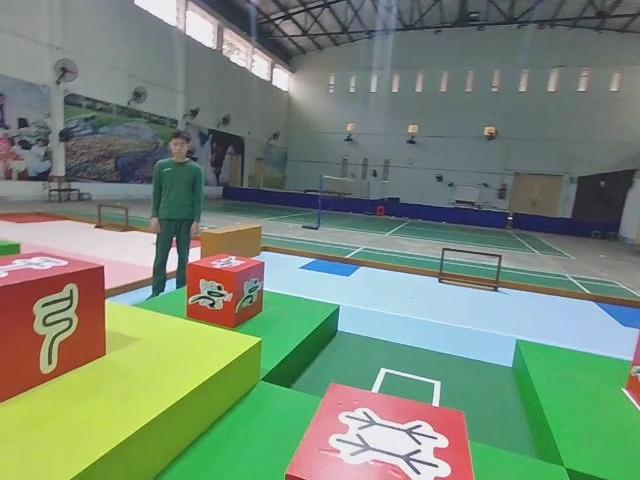R1: (184, 252, 266, 328)
R2 Fake: (0, 252, 106, 400)
R2 Real: (286, 381, 471, 480)
